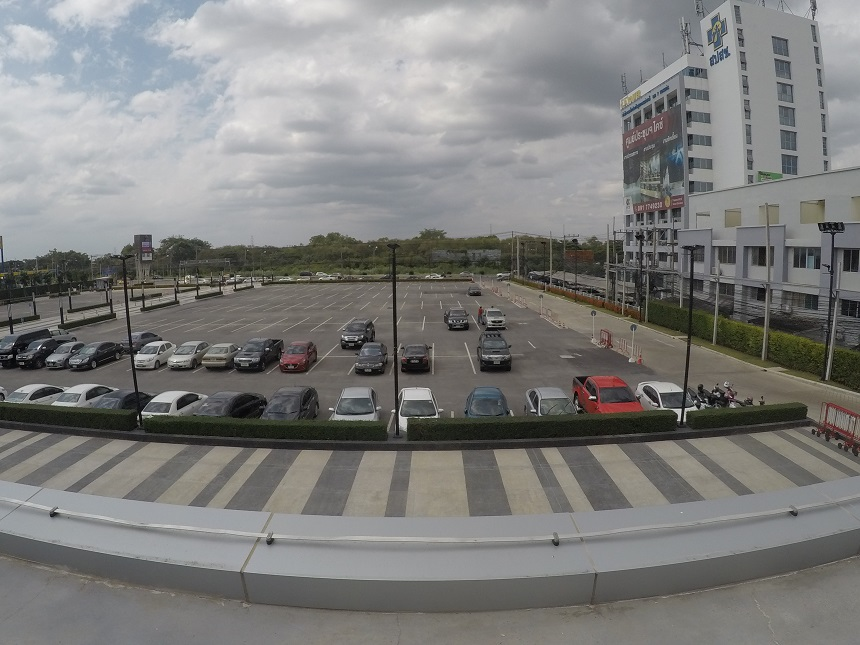busy: (576, 381, 635, 410), (645, 379, 693, 409), (276, 390, 319, 417), (153, 389, 201, 413), (211, 391, 258, 414), (337, 393, 380, 418), (461, 391, 507, 414), (401, 388, 439, 414), (522, 390, 564, 411), (237, 348, 270, 369), (477, 350, 512, 369), (279, 350, 309, 371), (22, 385, 59, 402), (109, 390, 143, 408), (359, 353, 388, 372), (400, 352, 430, 370), (166, 350, 194, 367), (135, 350, 160, 369), (201, 351, 232, 366), (73, 387, 102, 403), (19, 352, 41, 367), (46, 354, 69, 368), (1, 344, 17, 364), (71, 356, 96, 368)
